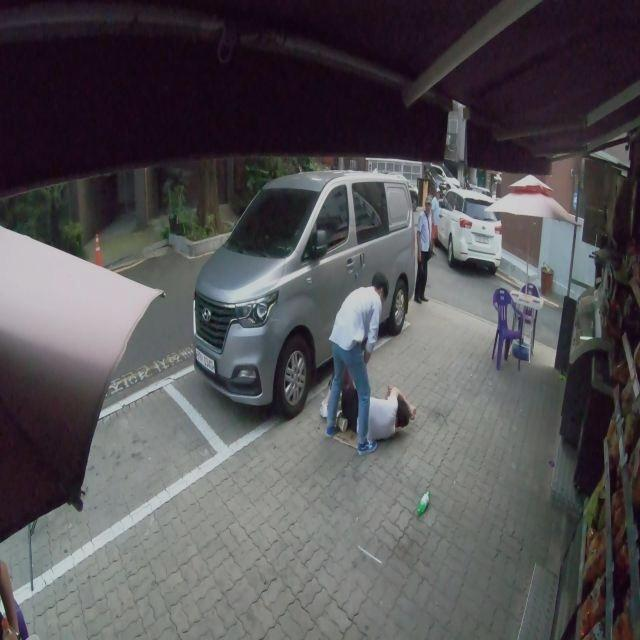fight: (320, 270, 414, 454)
non-fight: (411, 196, 435, 302)
